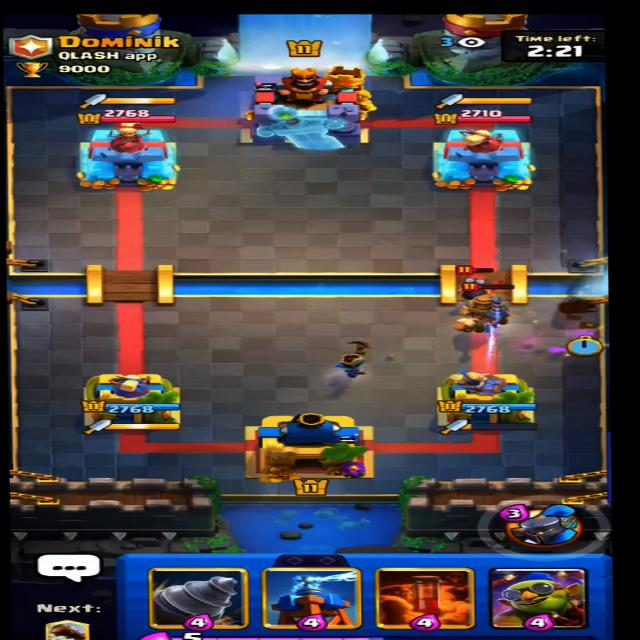Bomber: (455, 266, 500, 301)
Prince: (453, 278, 514, 336)
